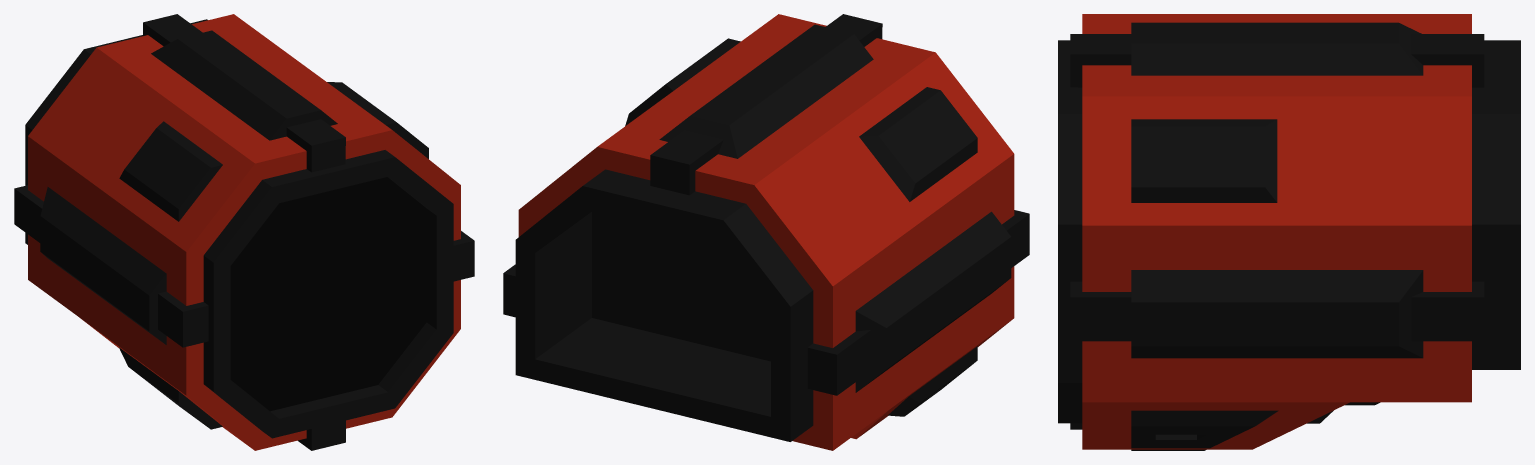
3 renders of one model, left to right at view 1: azimuth 30°, elevation 25°; view 2: azimuth 150°, elevation 25°; view 3: azimuth 270°, elevation 25°, orthographic. The views are drawn at different scales.
Parts seen in each view (by area): view 1: Body; view 2: Body; view 3: Body.
Boxes of the visible parts, x1,y1,x2,y2 form: Body: [14, 14, 474, 450]; Body: [503, 14, 1029, 450]; Body: [1058, 14, 1520, 450].
Bounding box in the file's own units: 1800 × 1800 × 1900.
